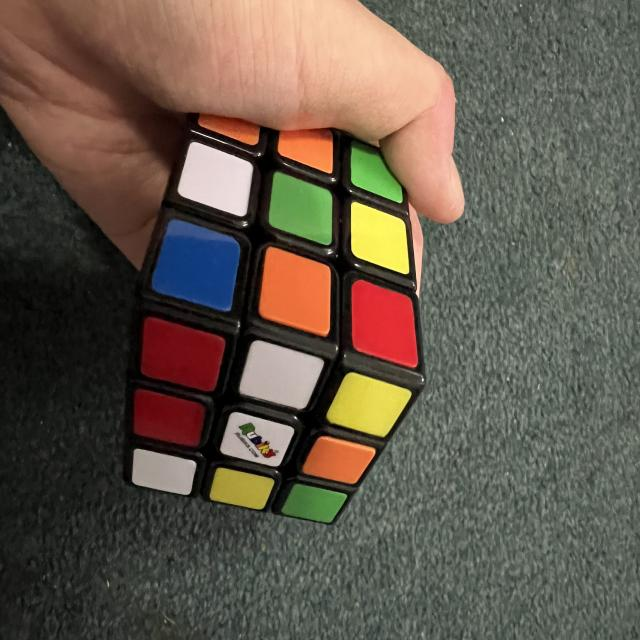blue: (148, 217, 250, 313)
center: (256, 170, 348, 248), (219, 410, 295, 471)
green: (338, 140, 416, 204), (281, 482, 347, 526)
orange: (246, 245, 348, 338), (300, 432, 376, 489), (196, 106, 263, 147), (277, 129, 333, 173)
red: (130, 315, 229, 394), (351, 279, 418, 368), (124, 387, 209, 450)
white: (172, 140, 264, 220), (236, 338, 325, 414), (127, 447, 198, 497)
yellow: (334, 200, 425, 276), (324, 368, 412, 443), (208, 465, 275, 513)
